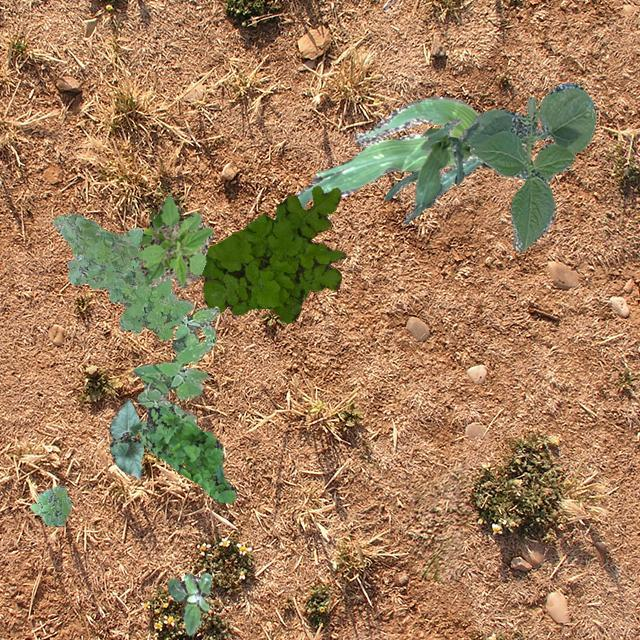crop: (294, 96, 524, 208), (464, 82, 594, 252), (384, 116, 479, 222), (109, 398, 142, 478)
weed: (200, 185, 346, 322), (51, 213, 192, 339), (132, 306, 218, 430), (138, 406, 235, 502), (134, 195, 212, 288), (167, 572, 210, 634), (28, 484, 70, 526)
